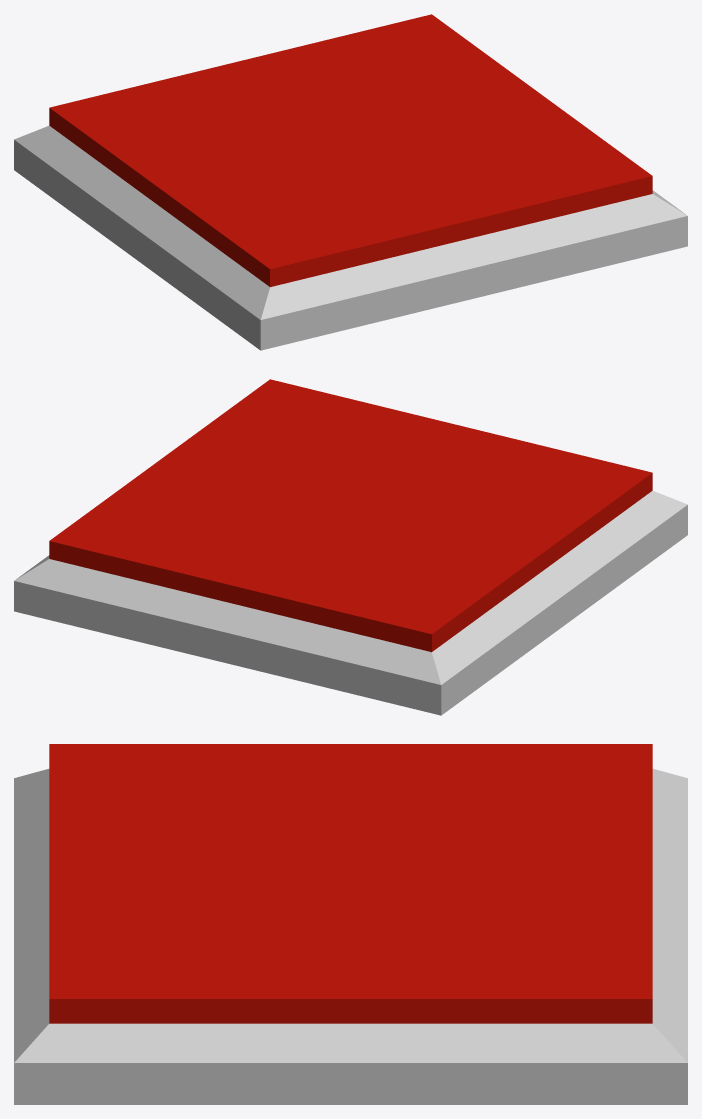
The model's file is button.fbx.
The picture shows the model from 3 angles, top to bottom: view 1: azimuth 30°, elevation 25°; view 2: azimuth 150°, elevation 25°; view 3: azimuth 270°, elevation 25°; orthographic projection. The views are drawn at different scales.
Visible parts, largest first — view 1: Interupteur, Socle; view 2: Interupteur, Socle; view 3: Interupteur, Socle.
Boxes of the visible parts, left/top/right/bottom form: Interupteur: left=49, top=14, right=652, bottom=287; Socle: left=14, top=125, right=687, bottom=350; Interupteur: left=49, top=379, right=652, bottom=652; Socle: left=14, top=490, right=687, bottom=715; Interupteur: left=49, top=744, right=652, bottom=1023; Socle: left=14, top=769, right=687, bottom=1104.
Bounding box in the file's own units: 500 × 74.34 × 500.
